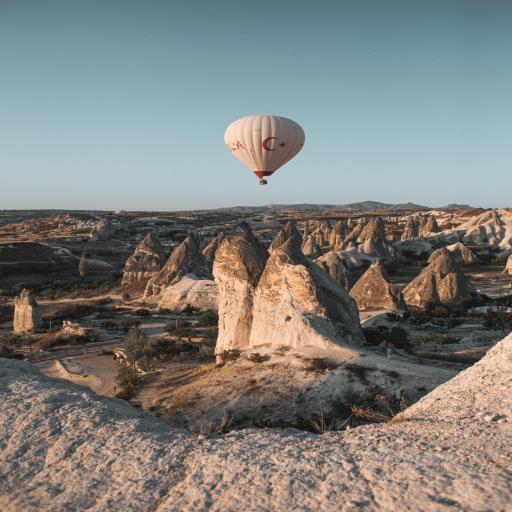hot air ballon: (224, 115, 306, 185)
